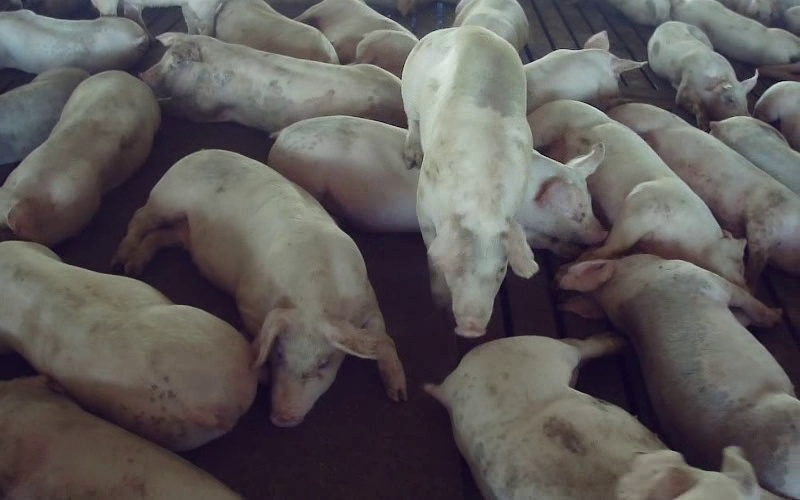pig: (114, 150, 405, 426), (559, 255, 799, 499), (425, 335, 776, 499), (402, 26, 537, 337), (529, 100, 744, 285), (608, 103, 799, 281), (0, 71, 160, 245), (141, 33, 405, 132), (268, 116, 418, 231), (648, 21, 757, 129), (524, 31, 644, 111), (297, 0, 417, 76), (0, 68, 88, 164), (671, 0, 799, 65), (215, 0, 338, 63), (710, 116, 799, 193)
